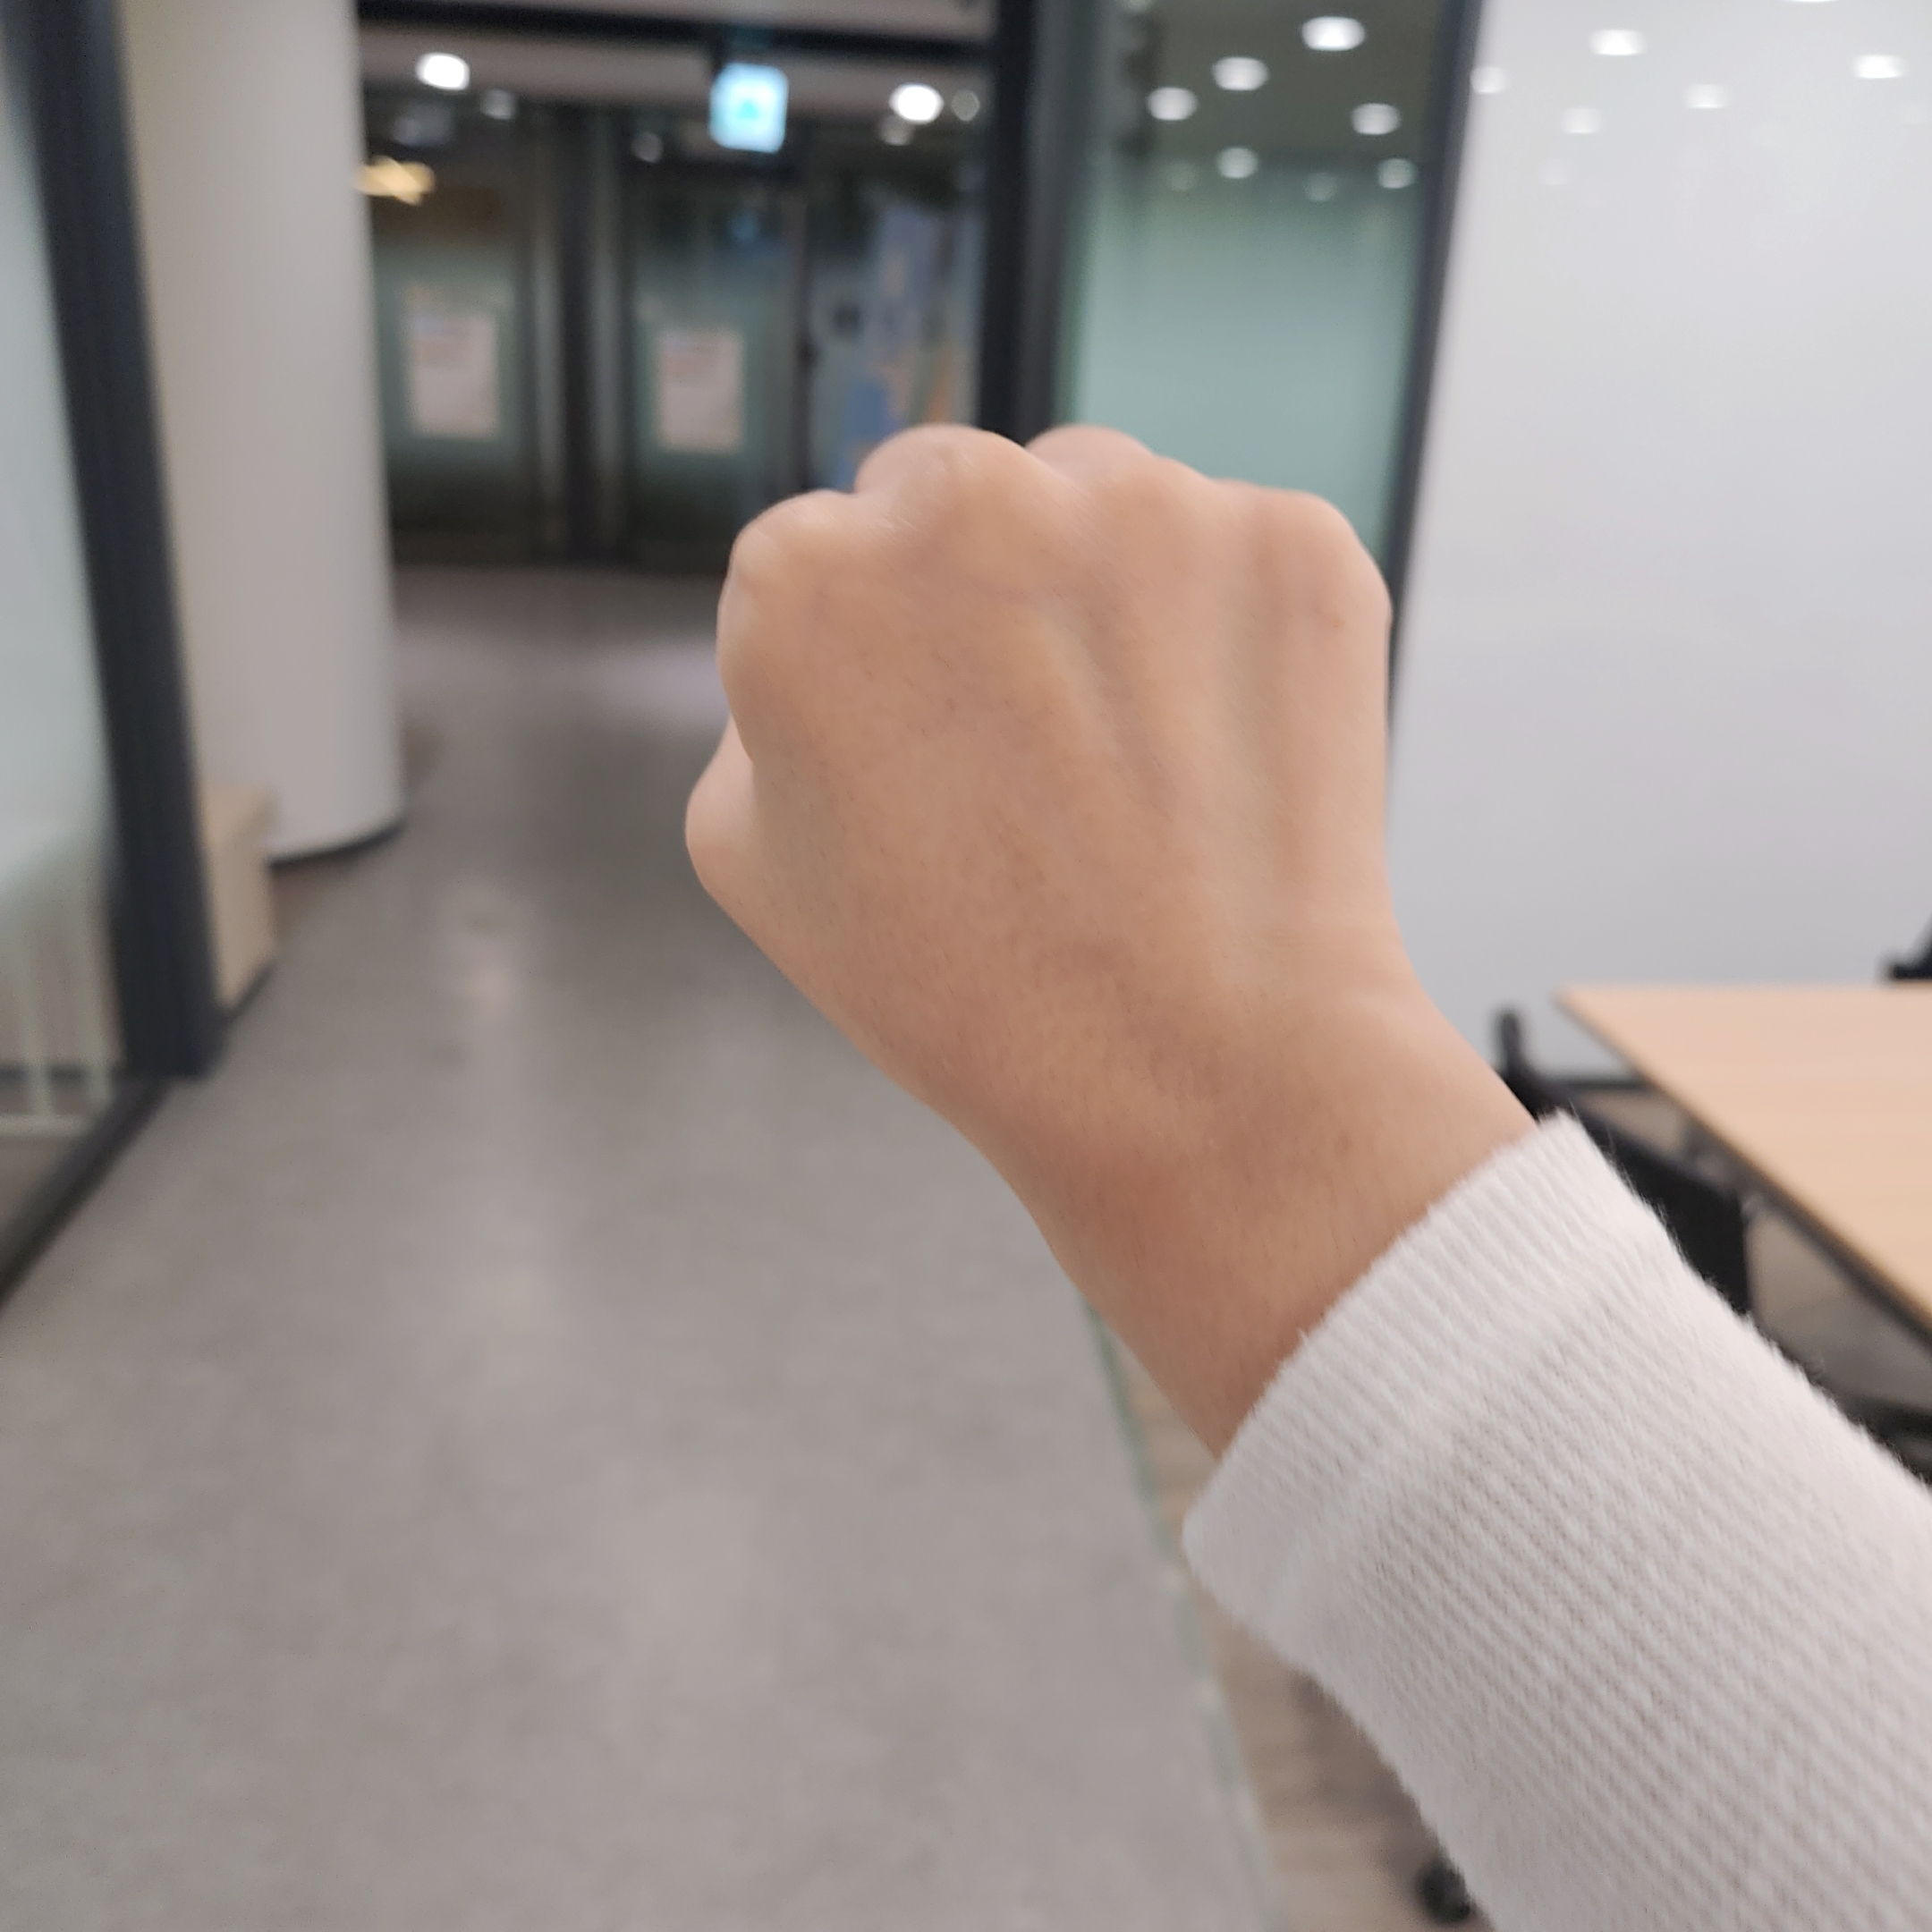smile: (680, 414, 1396, 1140)
